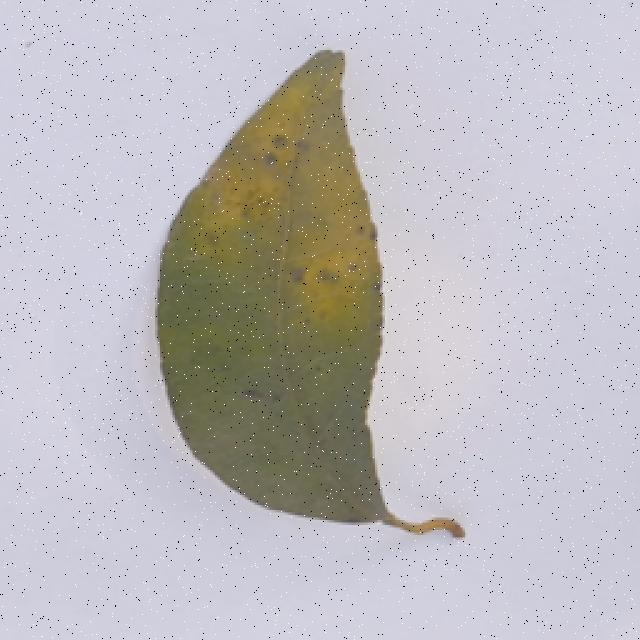greening: (139, 36, 470, 574)
